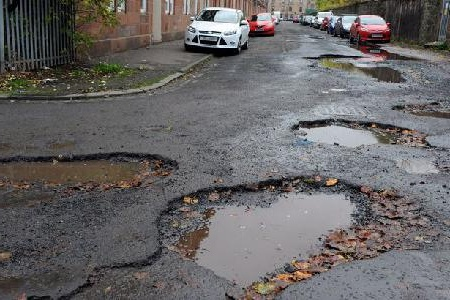pothole: (148, 170, 432, 299), (0, 149, 180, 195), (287, 115, 436, 152), (301, 51, 364, 72), (390, 100, 449, 122), (361, 61, 409, 86)
